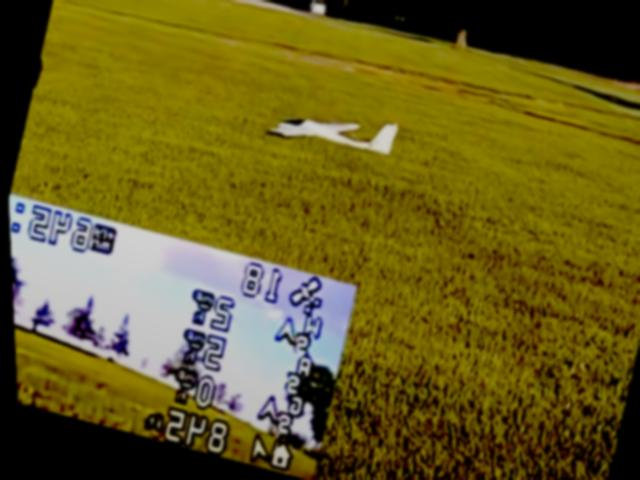iha: (262, 92, 398, 168)
